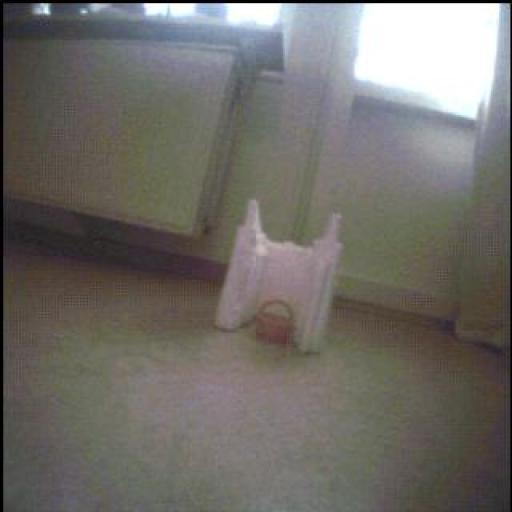Basket: (257, 300, 295, 348)
